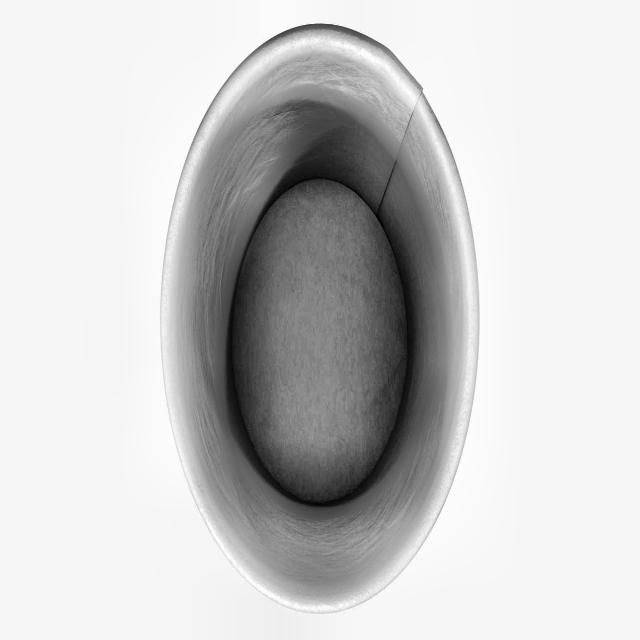Cup: (148, 14, 487, 634)
